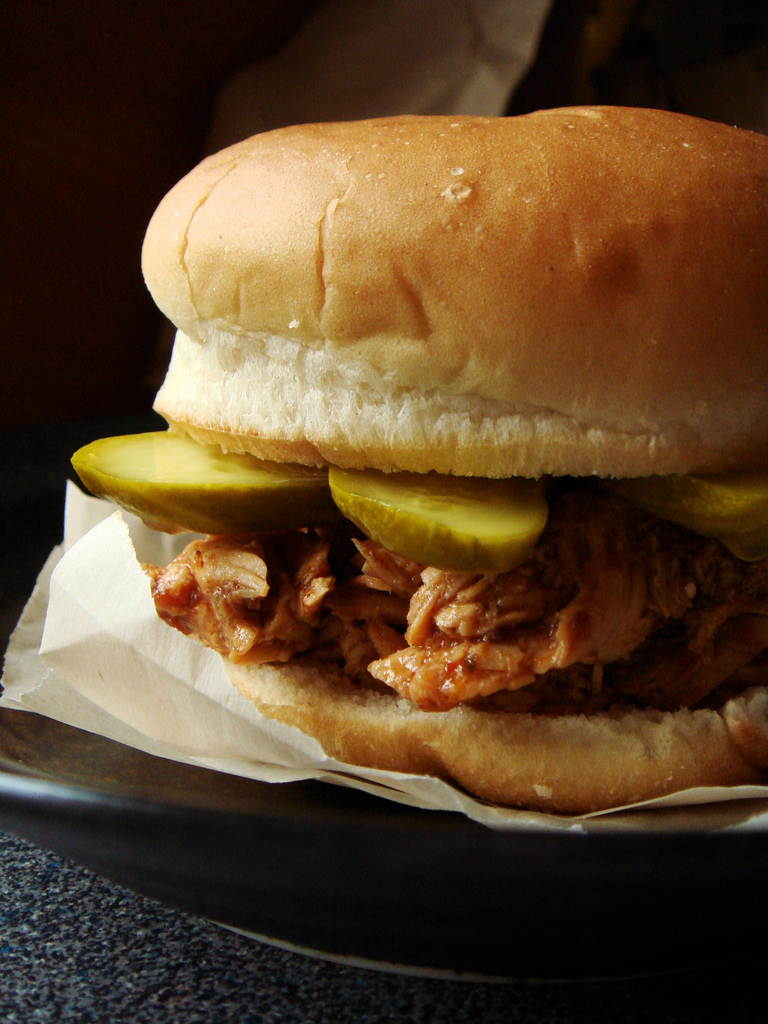slice of bread: (167, 112, 768, 449), (234, 681, 768, 813)
